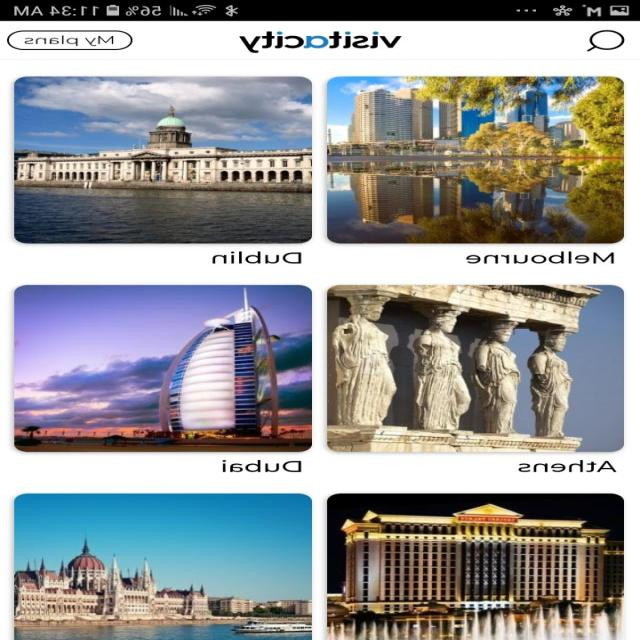Icon: (586, 29, 626, 52)
Image: (14, 285, 313, 452), (327, 285, 625, 452), (327, 76, 625, 243), (15, 76, 313, 243), (14, 493, 313, 640), (327, 493, 625, 640), (239, 30, 403, 53)
Text: (466, 251, 615, 264), (518, 459, 616, 472), (212, 251, 302, 264), (222, 459, 302, 472)
TextButton: (8, 30, 134, 50)
